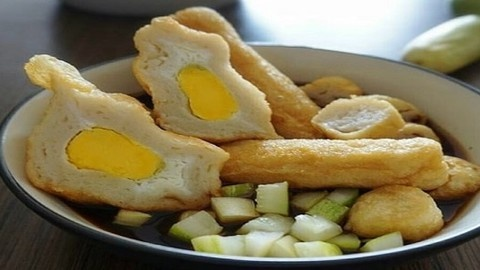pempek: (23, 5, 479, 240)
